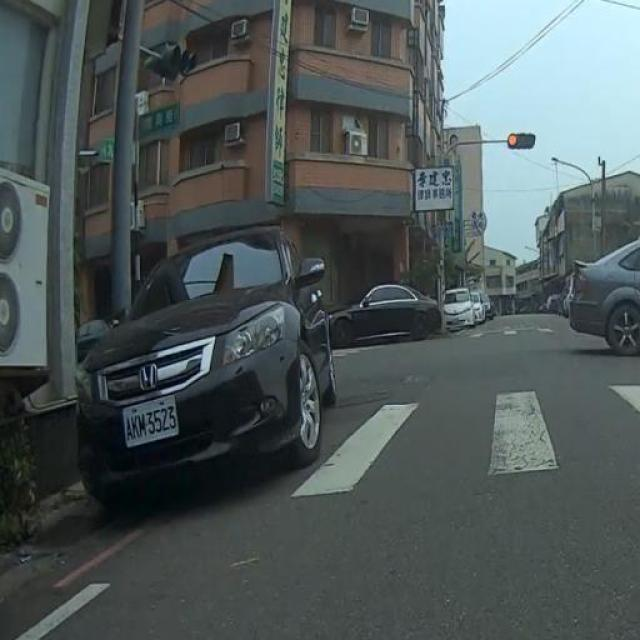illegalparking: (80, 228, 440, 501), (570, 240, 639, 354)
